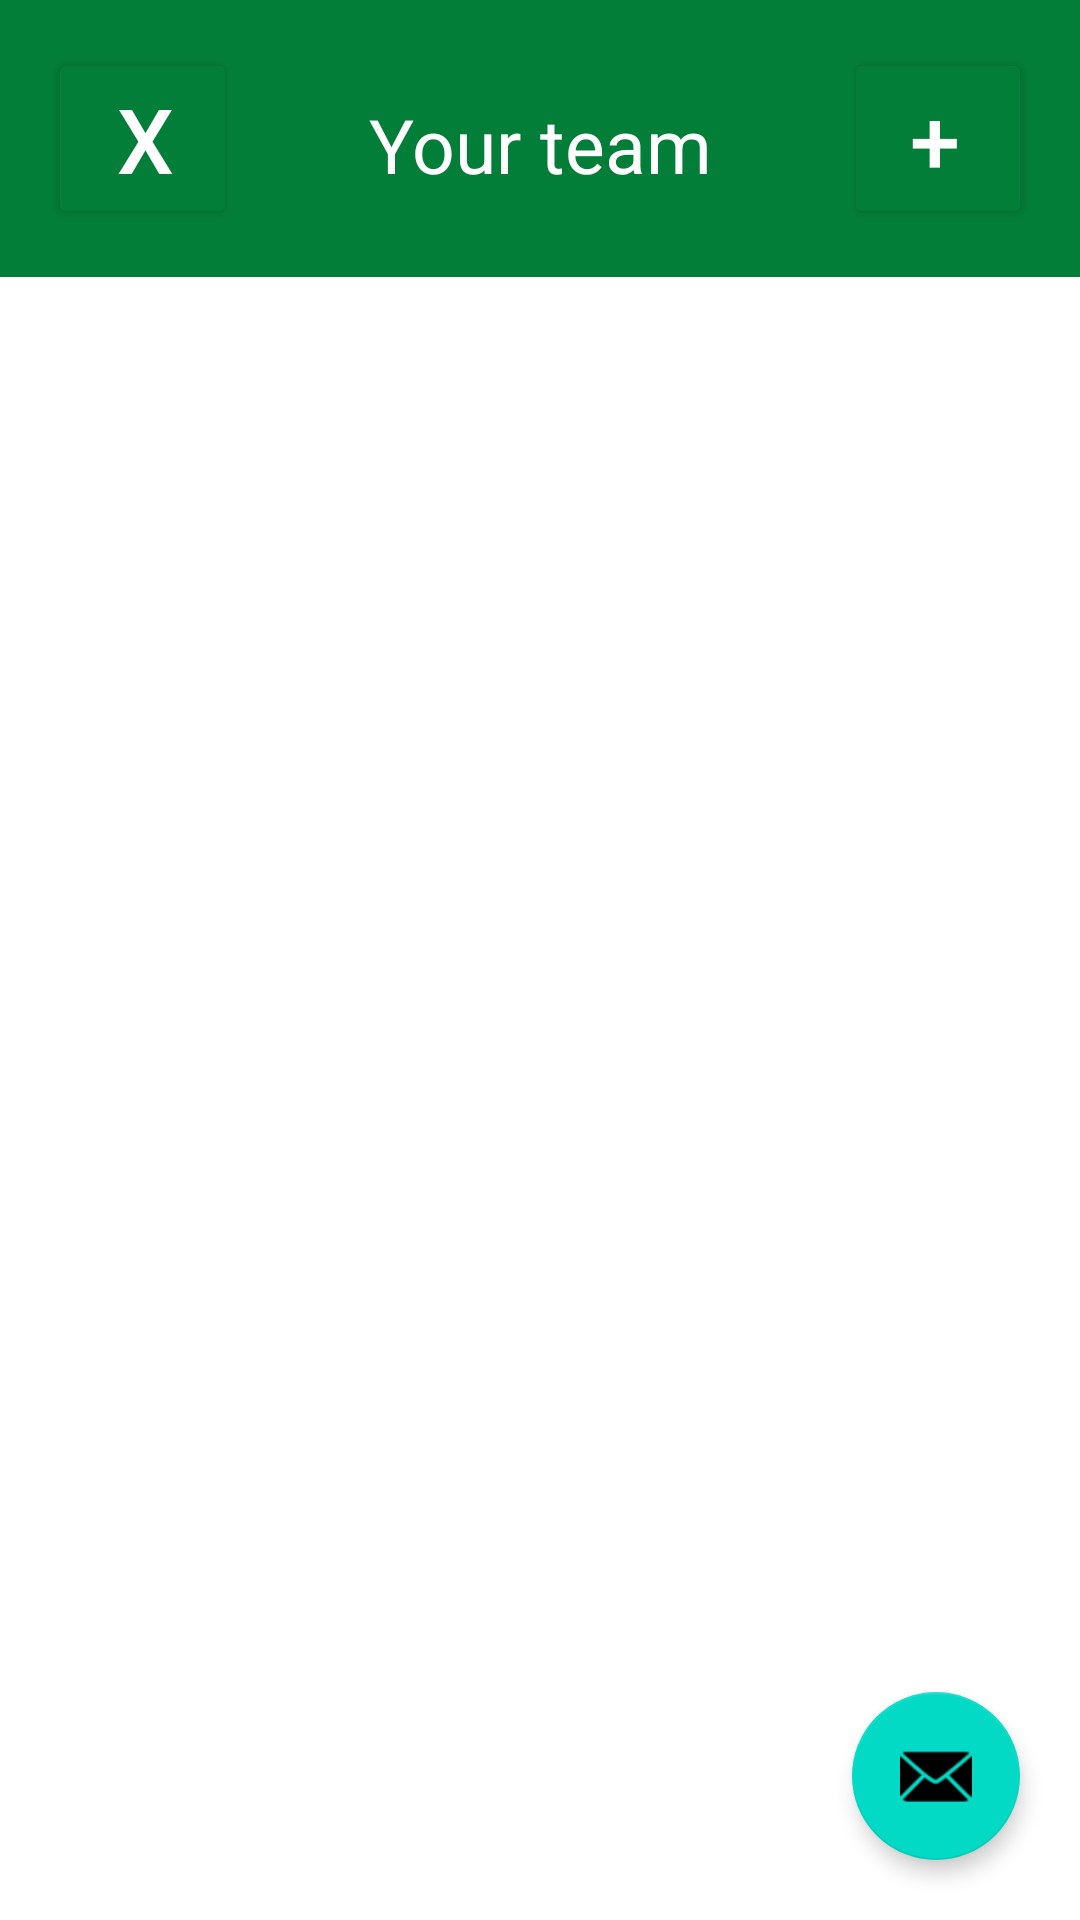

Screen size 1080x1920. Icon name, then its box in pixels as (x1, y1, x2, y2):
email: (852, 1692, 1020, 1860)
